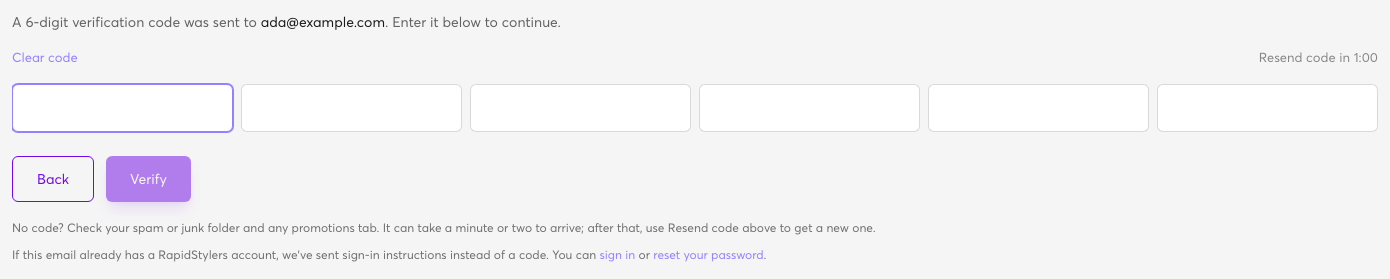
Test: styler code step help › keeps Verify disabled until six digits, accepts an autofilled code and shows the spam hint
The image size is (1390, 279).
Expected: the button "Verify" is disabled, [106,156,191,202]
Type "123456" into the field with id "digit1" at (122, 108), box [12,84,233,132]
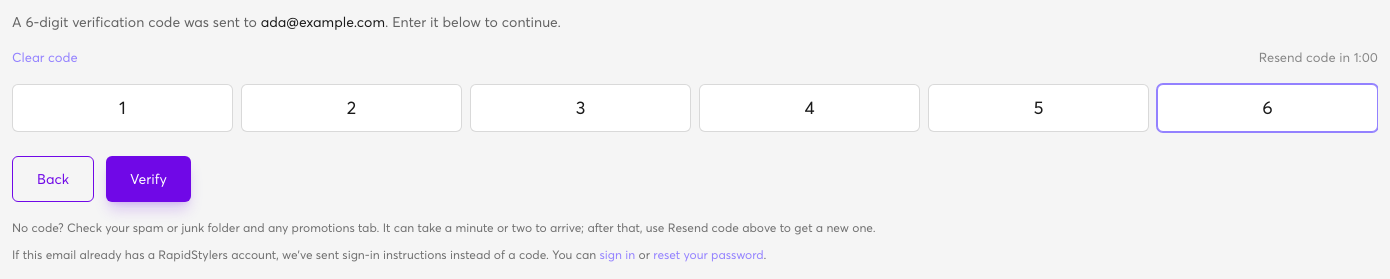
Expected: the text "Resend code above" is shown, [12,220,876,234]
Expected: the button "Verify" is enabled, [106,156,191,202]
